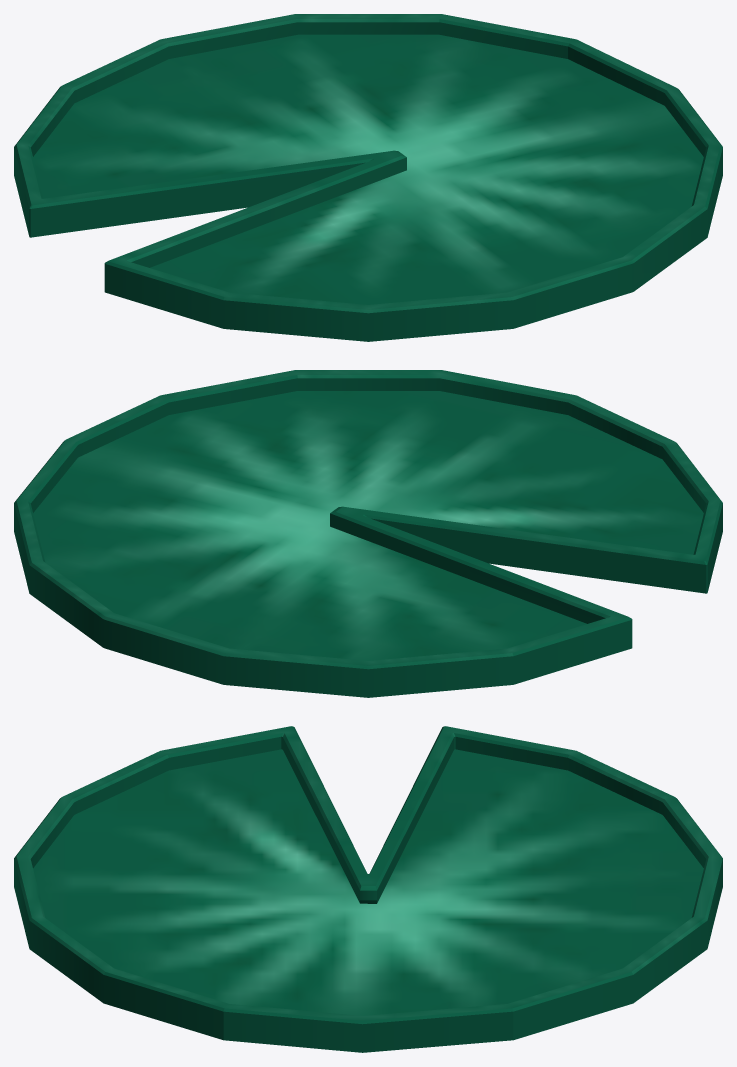
File: lily-pad.lod1.glb
The picture shows the model from 3 angles, top to bottom: view 1: azimuth 30°, elevation 25°; view 2: azimuth 150°, elevation 25°; view 3: azimuth 270°, elevation 25°; orthographic projection.
Visible parts, largest first — view 1: Object_5; view 2: Object_5; view 3: Object_5.
Boxes of the visible parts, x1,y1,x2,y2 form: Object_5: [14, 14, 722, 341]; Object_5: [14, 370, 722, 697]; Object_5: [14, 726, 722, 1052].
Size of the model in its own units: 3.97 by 0.1924 by 4.
Materials: 1 (1 with a texture image).
